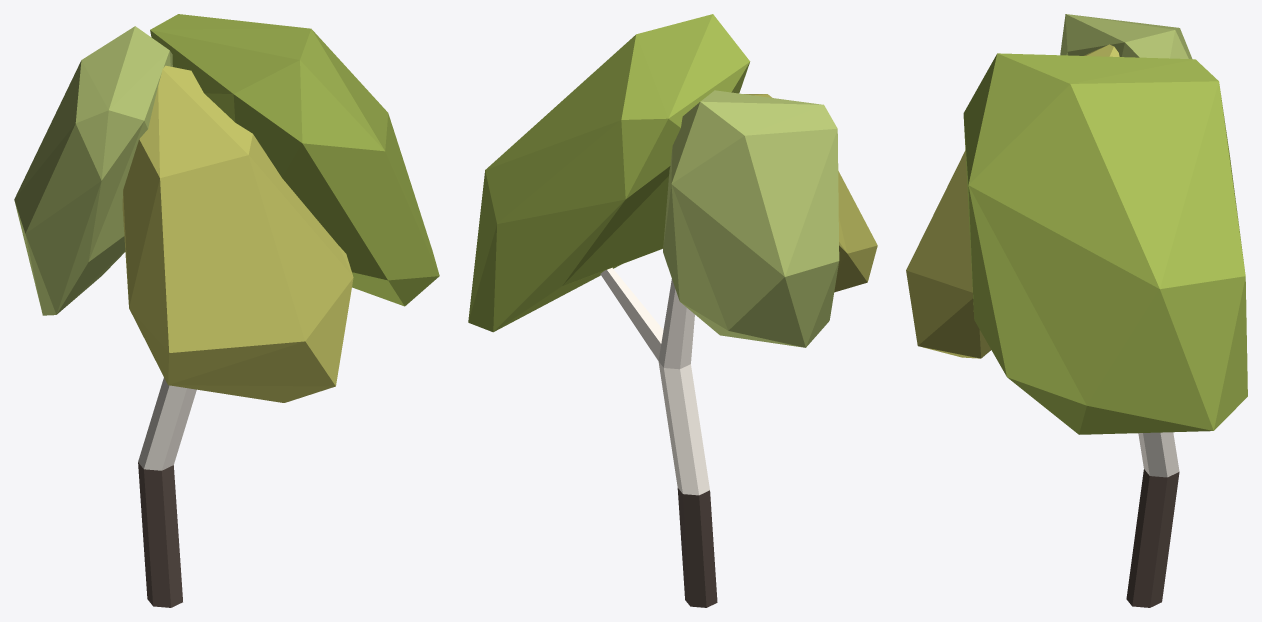
Rendered from Tree_Type5_01.glb.
3 renders of one model, left to right at view 1: azimuth 30°, elevation 25°; view 2: azimuth 150°, elevation 25°; view 3: azimuth 270°, elevation 25°, orthographic. The views are drawn at different scales.
Visible parts, largest first — view 1: Tree Type5 01 Model; view 2: Tree Type5 01 Model; view 3: Tree Type5 01 Model.
Boxes of the visible parts, left/top/right/bottom form: Tree Type5 01 Model: left=14, top=14, right=439, bottom=607; Tree Type5 01 Model: left=468, top=14, right=877, bottom=607; Tree Type5 01 Model: left=906, top=14, right=1247, bottom=607.
Bounding box in the file's own units: 1.22 × 1.76 × 0.9458.
1 material, 1 textured.
